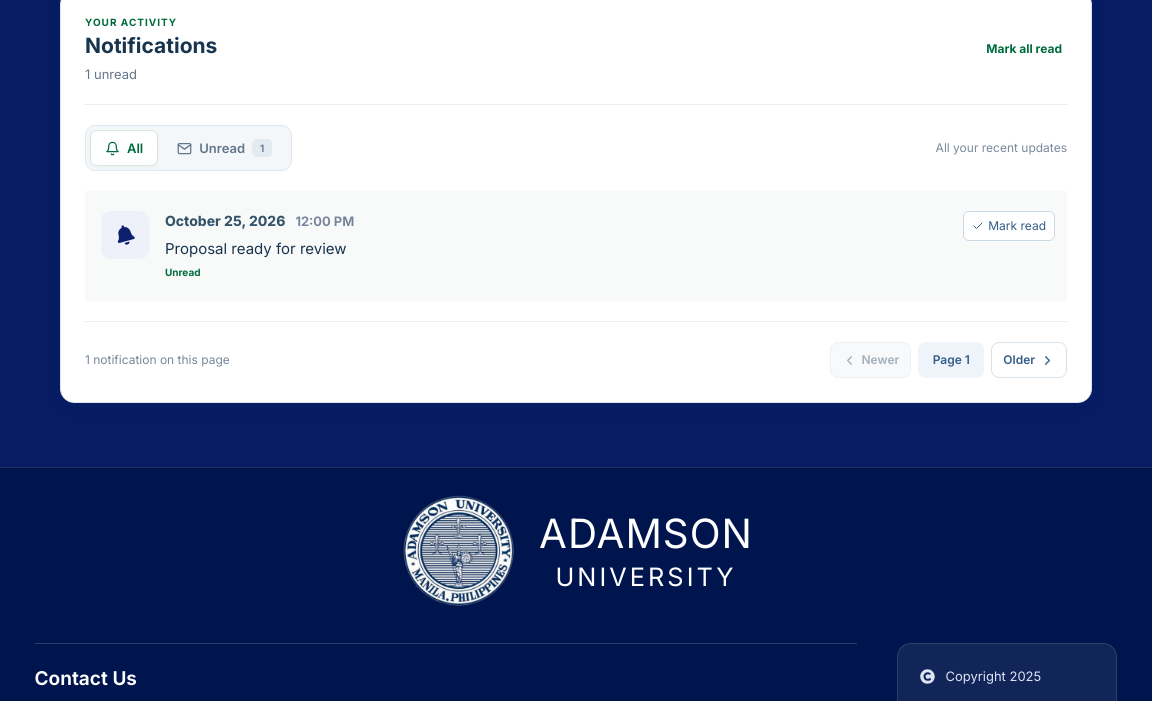
Test: inbox uses its cursor to load older notification history
(page scrolled)
Click the button "Older": (1029, 360) [991,342,1067,378]
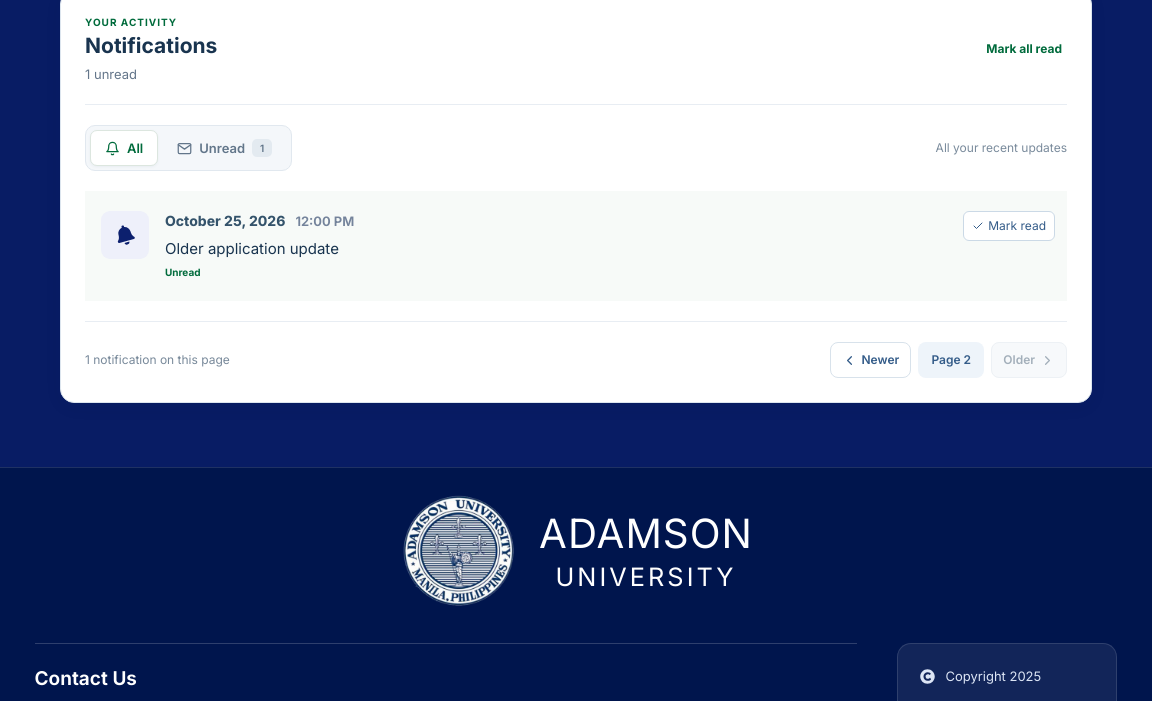
Expected: the text "Older application update" is shown, [165,239,339,258]
Expected: the text "Page 2" is shown, [918,342,984,378]
Click the button "Unread 1": (225, 148) [162,130,287,166]
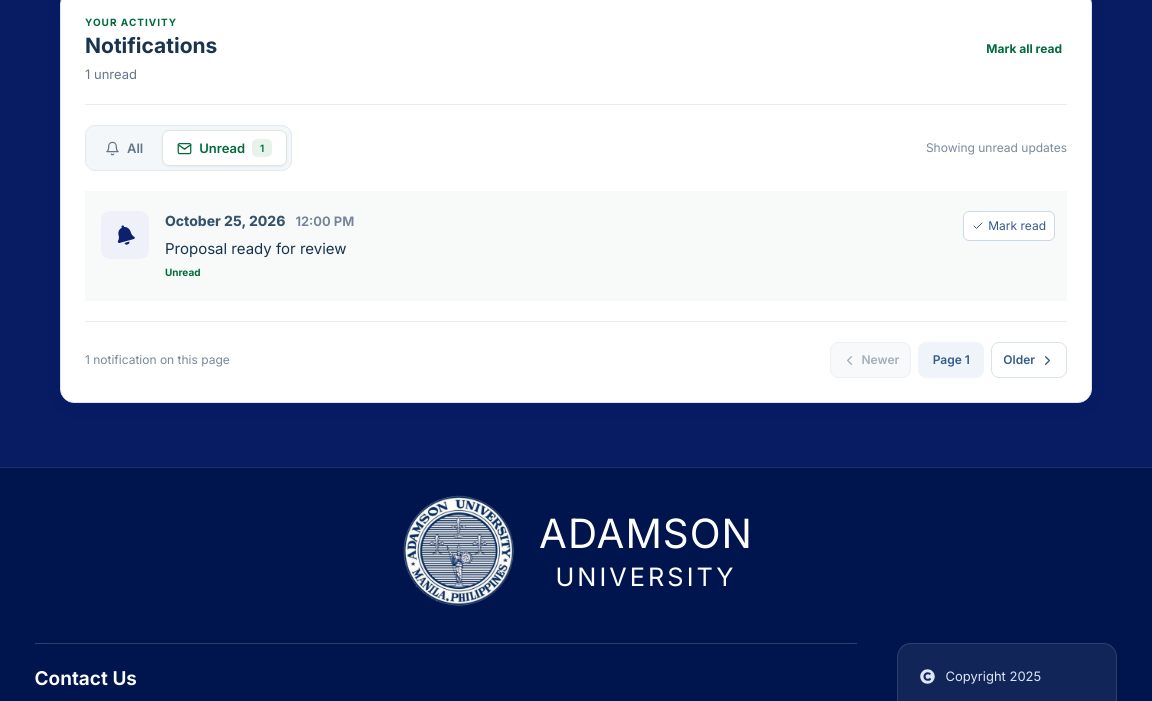
Expected: the text "Page 1" is shown, [918,342,984,378]
Expected: the button "Newer" is disabled, [830,342,911,378]
